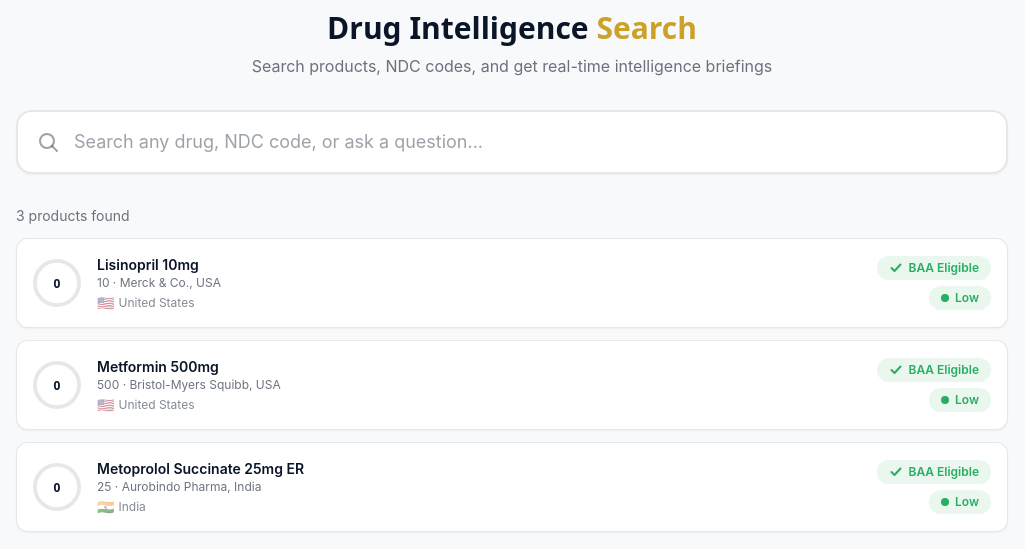
it: SearchHub › search by product name returns matches
The width and height of the screenshot is (1025, 549).
Type "Lisinopril" into the field with test id "search-input" at (512, 142), box [16, 110, 1008, 174]
Wait 350 ms
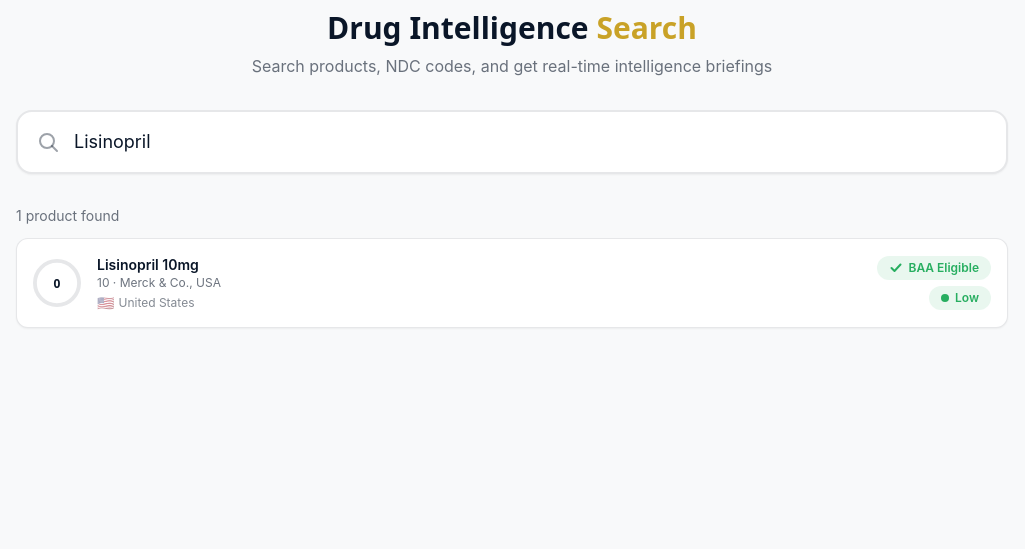
Expected: the heading "Lisinopril 10mg" is shown, [97, 256, 199, 273]
Result: the button "Metformin 500mg" is gone
